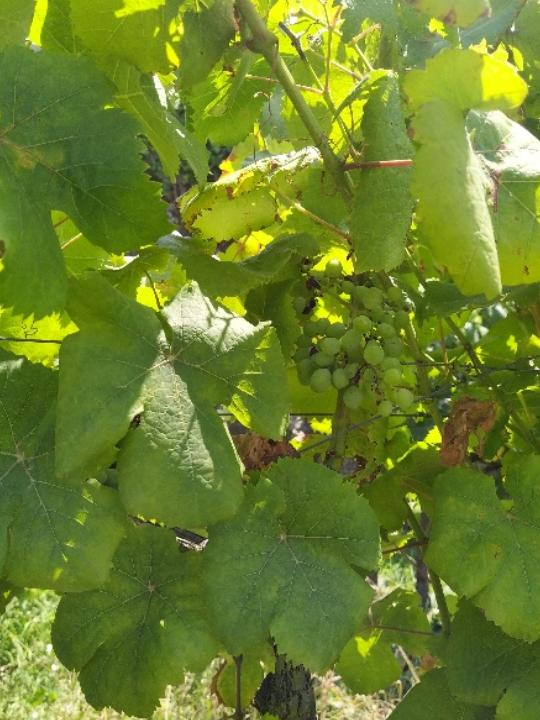grape: (291, 255, 418, 419)
